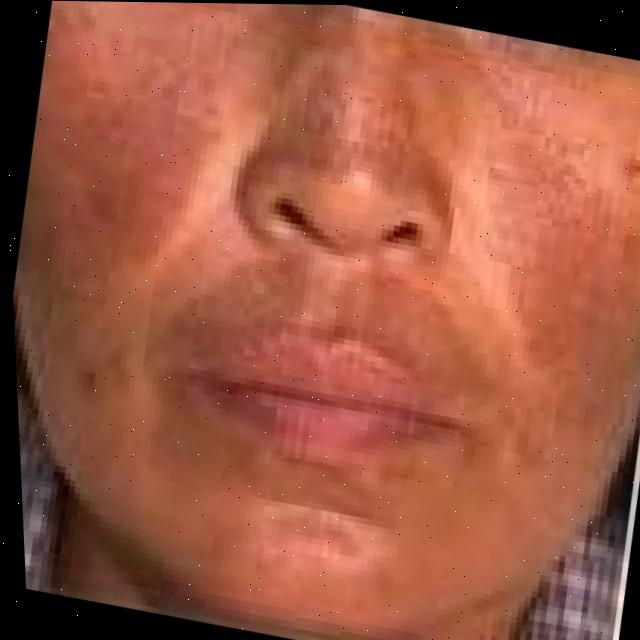Melasma: (0, 0, 283, 397), (419, 75, 640, 475), (238, 8, 480, 236)
